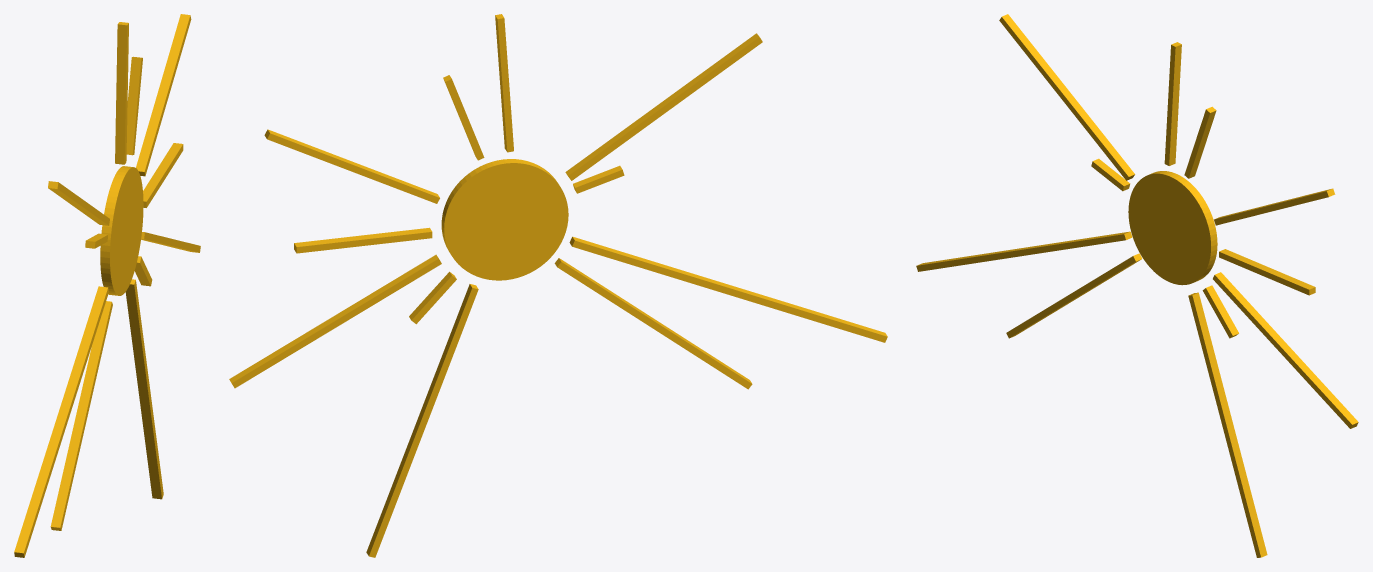
The model's file is rays.glb.
The picture shows the model from 3 angles, left to right: view 1: azimuth 30°, elevation 25°; view 2: azimuth 150°, elevation 25°; view 3: azimuth 270°, elevation 25°; orthographic projection. The views are drawn at different scales.
Bounding box in the file's own units: 71.74 × 85.31 × 71.74.
